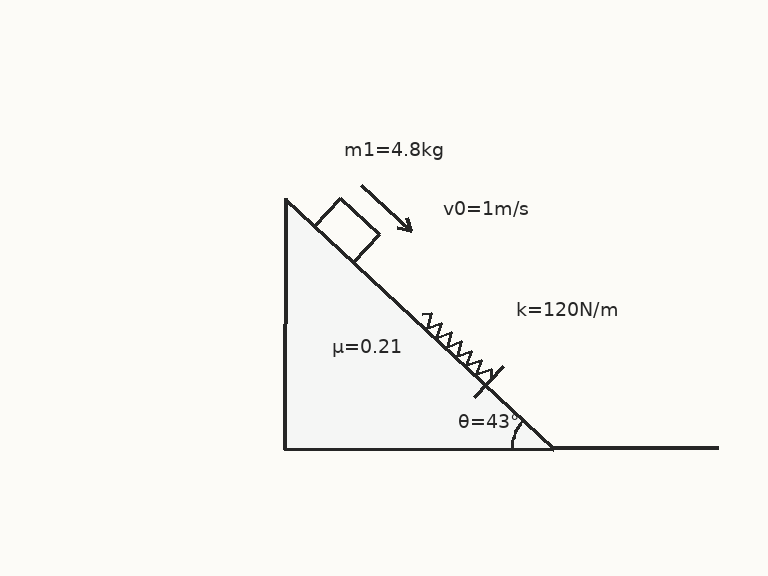block: (312, 195, 382, 264)
ramp: (282, 196, 554, 450)
spring: (420, 312, 493, 381)
